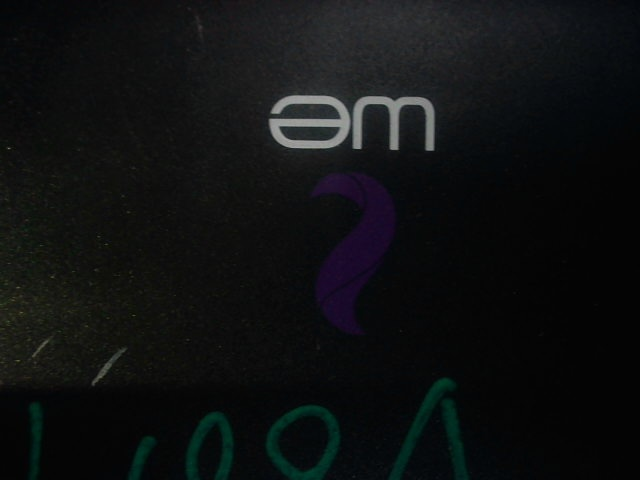AT_We: (258, 92, 456, 340)
